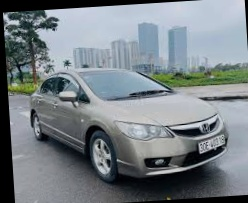Bien-so: (194, 136, 222, 156)
